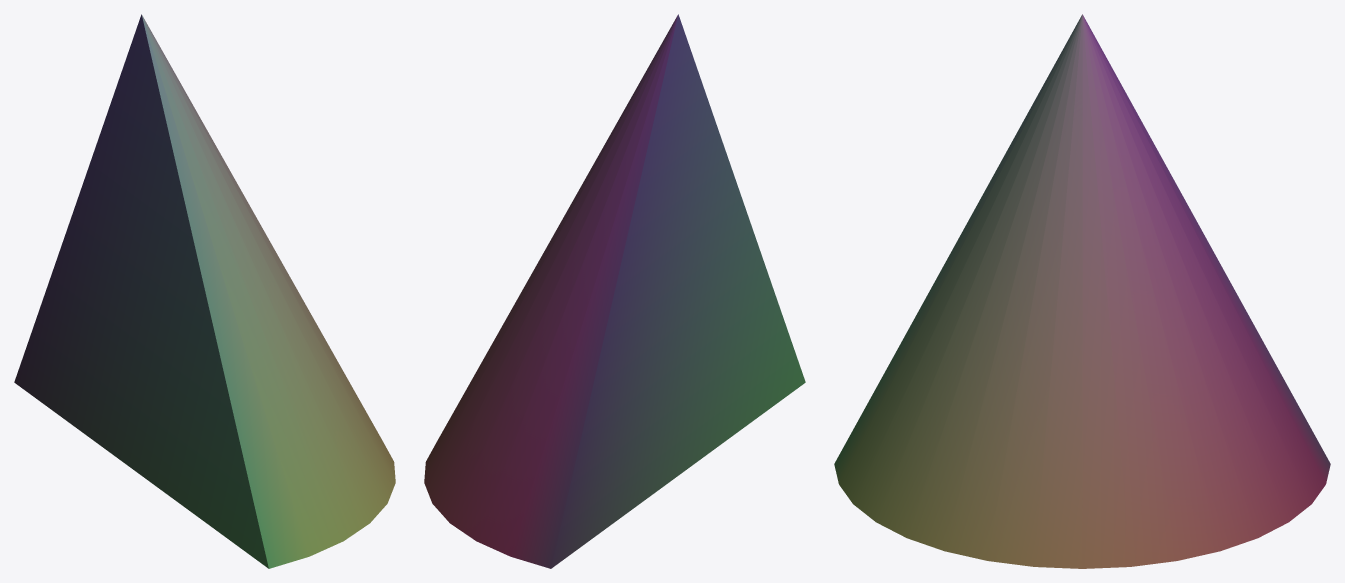
File: SM_ScalableHalfCone.gltf
The picture shows the model from 3 angles, left to right: view 1: azimuth 30°, elevation 25°; view 2: azimuth 150°, elevation 25°; view 3: azimuth 270°, elevation 25°; orthographic projection. The views are drawn at different scales.
Visible parts, largest first — view 1: SM_ScalableHalfCone; view 2: SM_ScalableHalfCone; view 3: SM_ScalableHalfCone.
Part boxes in pixels (bbox=[...]): SM_ScalableHalfCone: bbox=[14, 14, 395, 568]; SM_ScalableHalfCone: bbox=[424, 14, 805, 568]; SM_ScalableHalfCone: bbox=[834, 14, 1330, 568].
Size of the model in its own units: 0.15 by 0.3 by 0.3.
